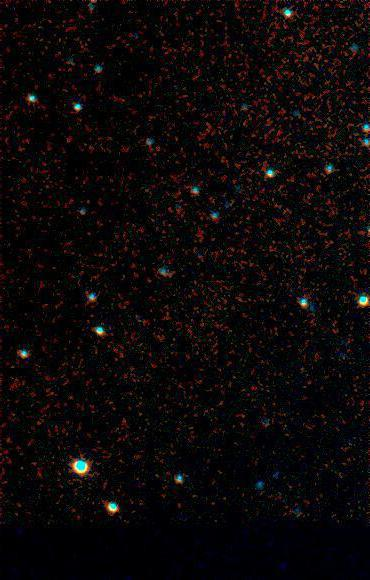star: (108, 263, 138, 293)
